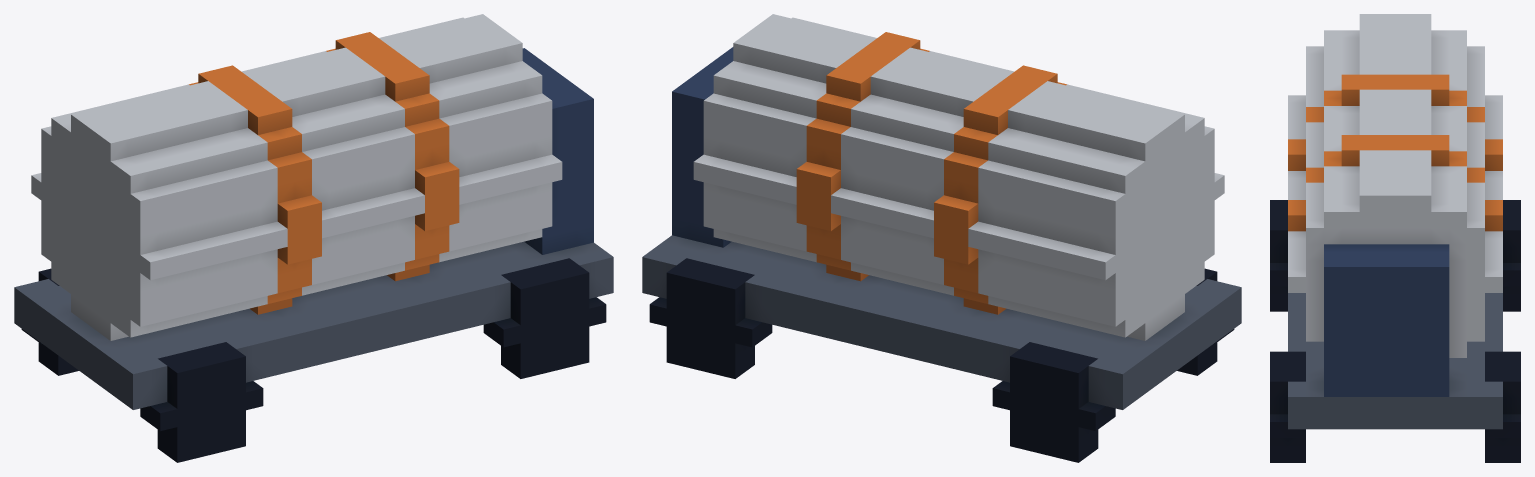
Rendered from fuel_cart.glb.
The picture shows the model from 3 angles, left to right: view 1: azimuth 30°, elevation 25°; view 2: azimuth 150°, elevation 25°; view 3: azimuth 270°, elevation 25°; orthographic projection. The views are drawn at different scales.
Visible parts, largest first — view 1: Model; view 2: Model; view 3: Model.
Boxes of the visible parts, x1,y1,x2,y2 form: Model: [14, 14, 613, 462]; Model: [642, 14, 1241, 462]; Model: [1270, 14, 1520, 462].
Bounding box in the file's own units: 2.8 × 1.6 × 1.4.
